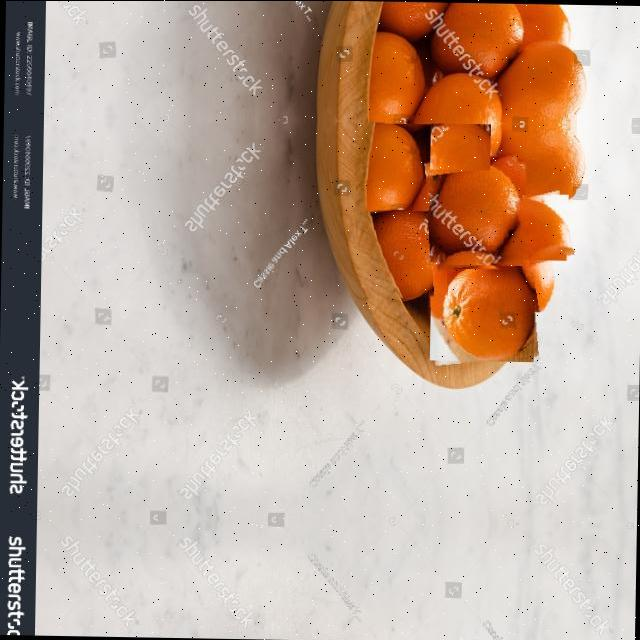Orange: (364, 2, 586, 359), (441, 267, 535, 359)
